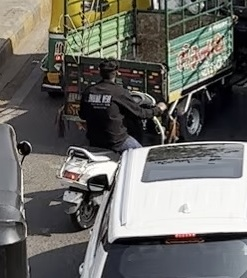BikeWithRider: (51, 53, 181, 232)
NoHelmet: (94, 55, 122, 89)
